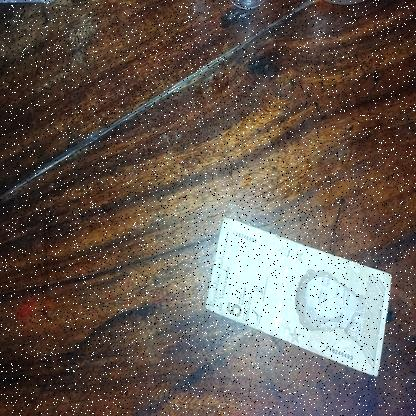five-front-vef: (204, 216, 391, 376)
